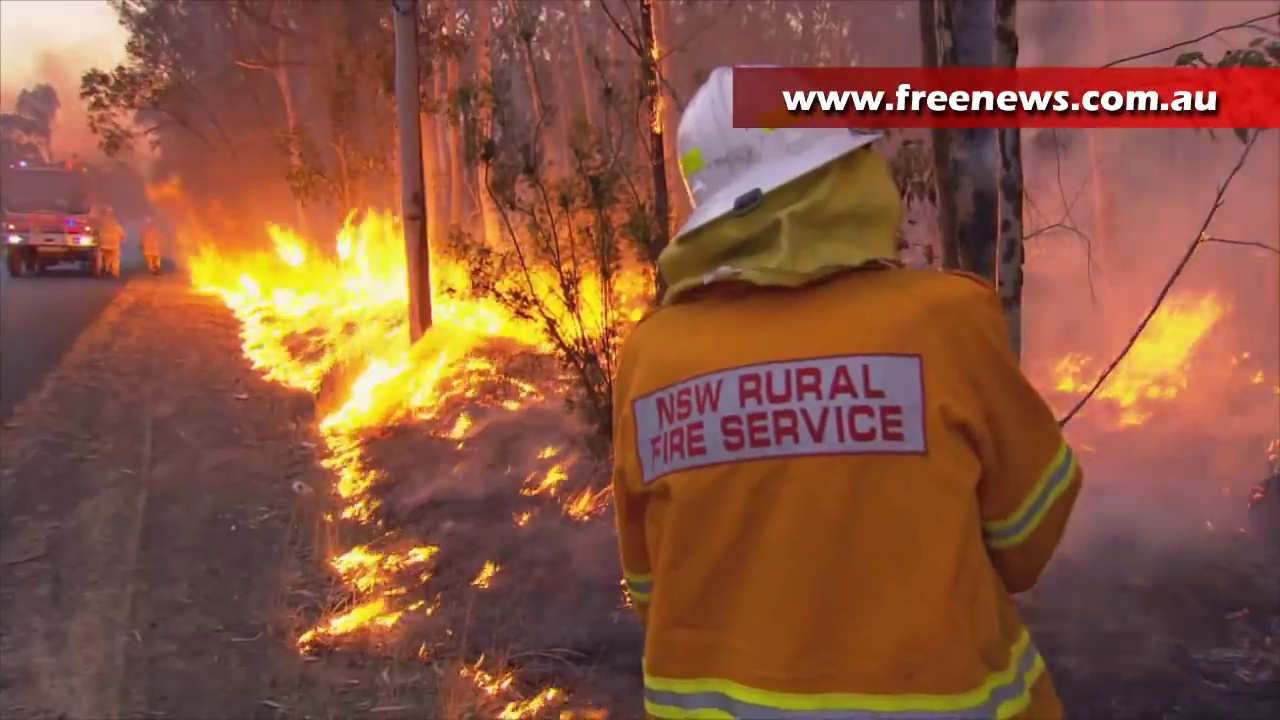fire: (191, 211, 404, 433), (426, 242, 663, 435), (308, 545, 443, 638), (1115, 294, 1224, 402), (319, 435, 377, 523), (525, 461, 610, 520), (472, 664, 554, 716), (1054, 352, 1088, 400)
